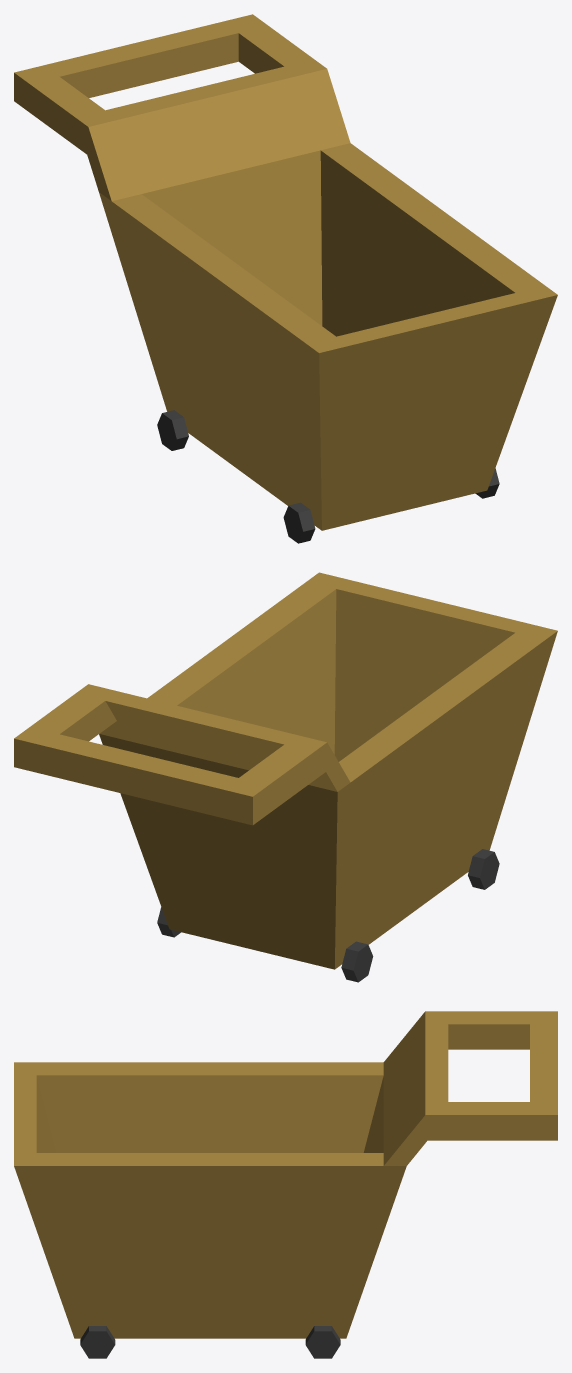
File: Troll.fbx
3 renders of one model, top to bottom at view 1: azimuth 30°, elevation 25°; view 2: azimuth 150°, elevation 25°; view 3: azimuth 270°, elevation 25°, orthographic. The views are drawn at different scales.
Visible parts, largest first — view 1: Cube.023, Cylinder.004; view 2: Cube.023, Cylinder.004; view 3: Cube.023, Cylinder.004.
Part boxes in pixels (x1=…): Cube.023: x1=14, y1=14, x2=557, y2=530; Cylinder.004: x1=157, y1=410, x2=499, y2=543; Cube.023: x1=14, y1=572, x2=557, y2=969; Cylinder.004: x1=157, y1=849, x2=499, y2=982; Cube.023: x1=14, y1=1011, x2=557, y2=1338; Cylinder.004: x1=80, y1=1326, x2=340, y2=1358.
Size of the model in its own units: 200 by 227 by 443.
